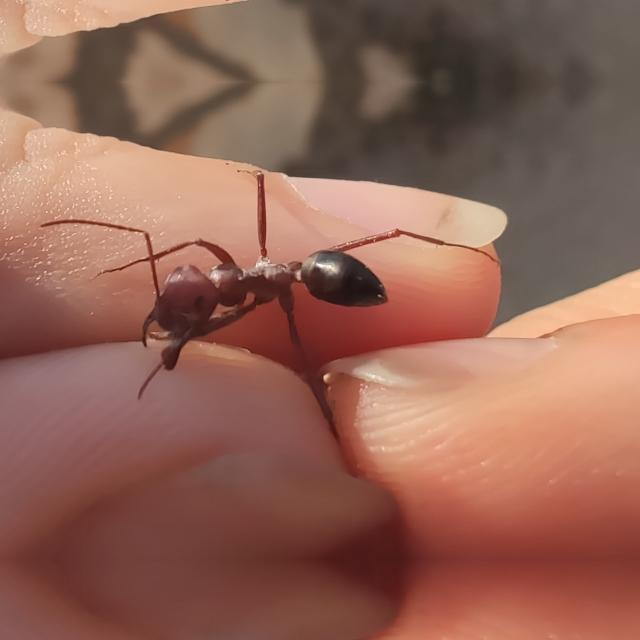Cataglyphis: (120, 205, 414, 368)
